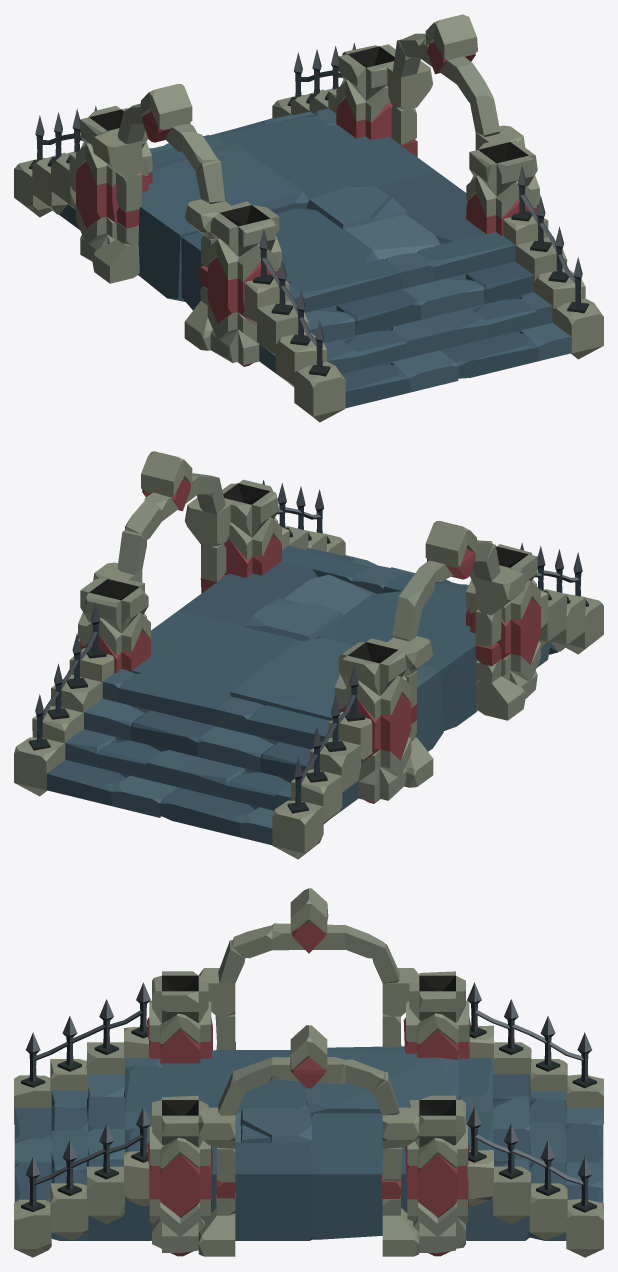
Rendered from level_element_stair_arch.fbx.
3 renders of one model, top to bottom at view 1: azimuth 30°, elevation 25°; view 2: azimuth 150°, elevation 25°; view 3: azimuth 270°, elevation 25°, orthographic.
Parts seen in each view (by area): view 1: level_element_stair_arch; view 2: level_element_stair_arch; view 3: level_element_stair_arch.
Part boxes in pixels (x1,y1,x2,y2): level_element_stair_arch: (14,14,603,422); level_element_stair_arch: (14,451,603,859); level_element_stair_arch: (14,888,603,1257).
Bounding box in the file's own units: 500 × 350 × 802.
